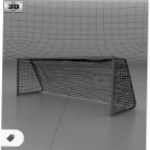goals: (14, 54, 139, 118)
